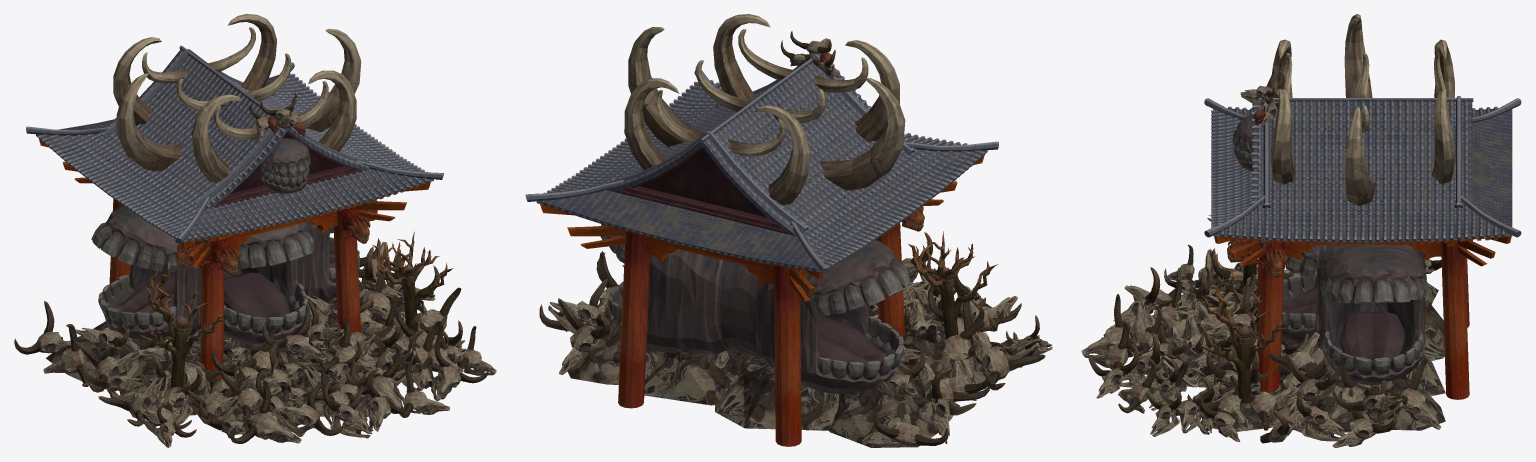
Rendered from malevolent-shrine.glb.
3 views of the same model, side by side, from view 1: azimuth 30°, elevation 25°; view 2: azimuth 150°, elevation 25°; view 3: azimuth 270°, elevation 25° (orthographic). The views are drawn at different scales.
Parts seen in each view (by area): view 1: Malevolent Shrine; view 2: Malevolent Shrine; view 3: Malevolent Shrine.
Part boxes in pixels (<box>): Malevolent Shrine: <box>14,14,496,447</box>; Malevolent Shrine: <box>525,14,1052,447</box>; Malevolent Shrine: <box>1081,14,1521,447</box>.
Size of the model in its own units: 12 by 8.99 by 11.74.
5 materials, 5 textured.
